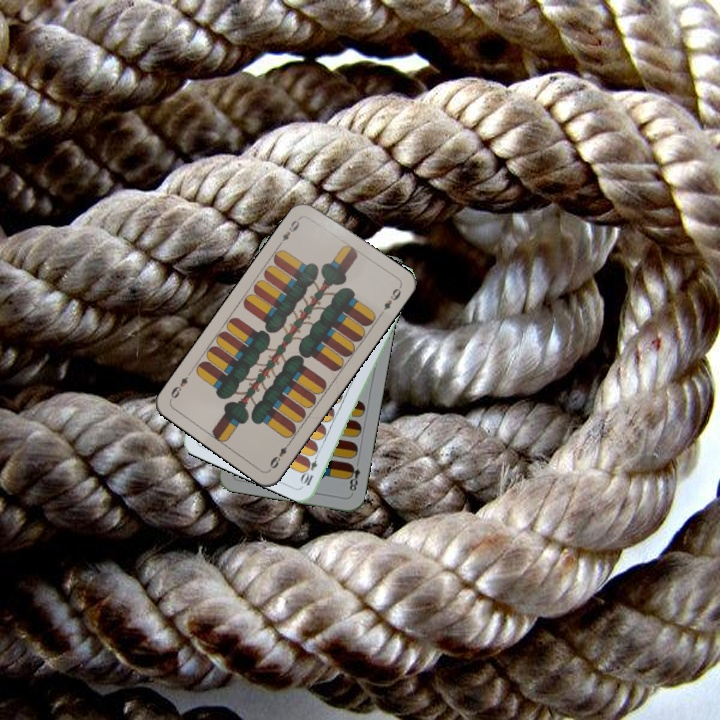E10: (298, 448, 321, 488)
E8: (344, 456, 363, 496)
E9: (275, 212, 304, 248), (266, 437, 294, 471)
